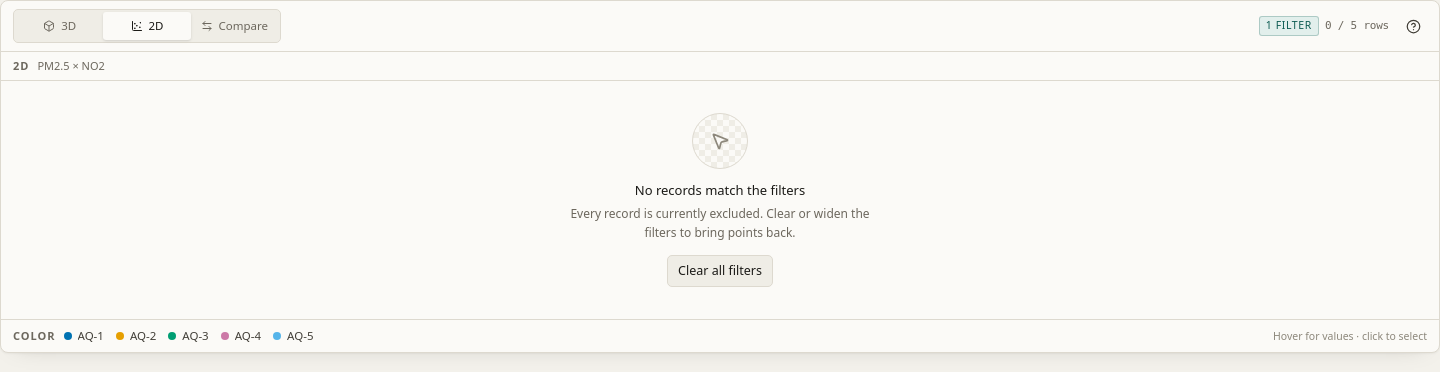
Scenario: VizStage › shows an empty state when filters exclude every row
Expected: the text "No records match the filters" is shown, [635,181,805,199]
Click the button "Clear all filters".
click(720, 271)  # box [667,255,773,287]
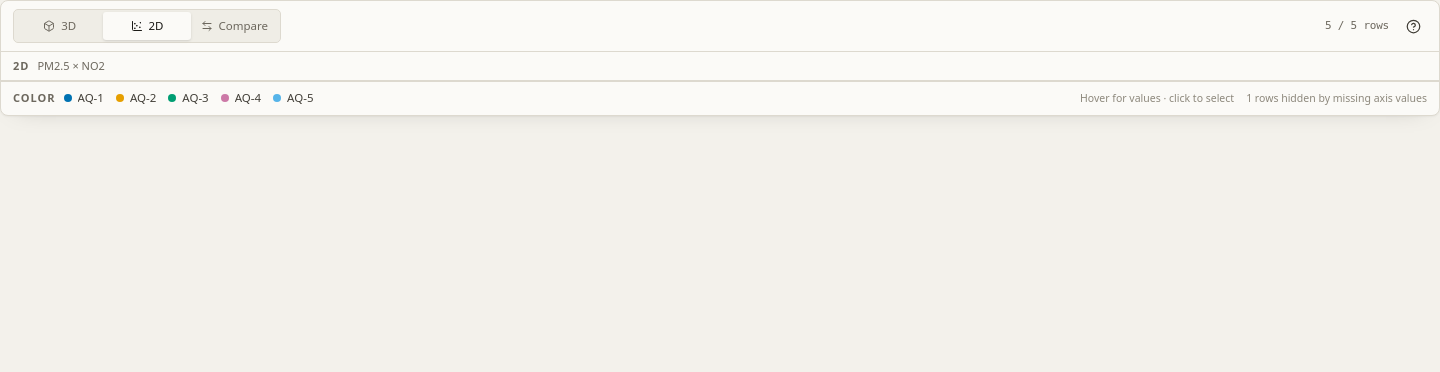
Now the text "No records match the filters" is gone
